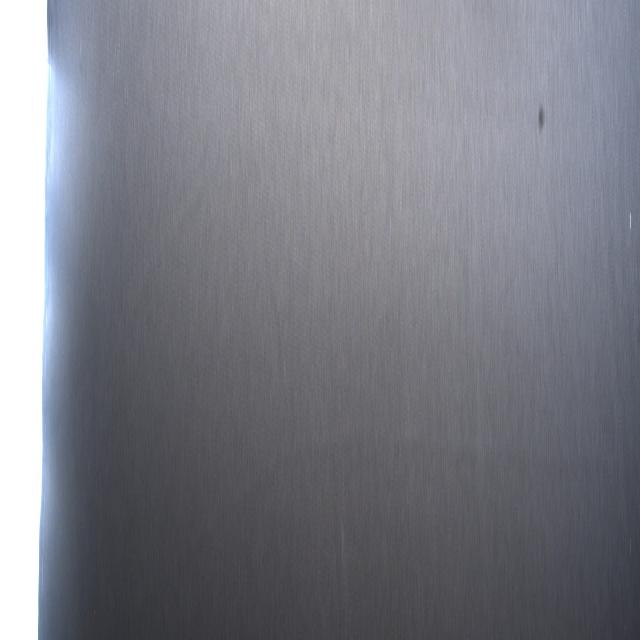crease: (232, 419, 492, 506)
whiteDefect: (628, 207, 633, 236)
